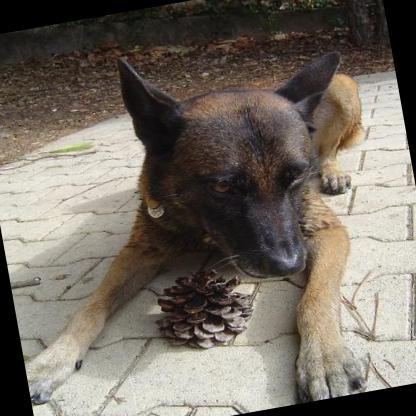malinois: (0, 14, 409, 416)
